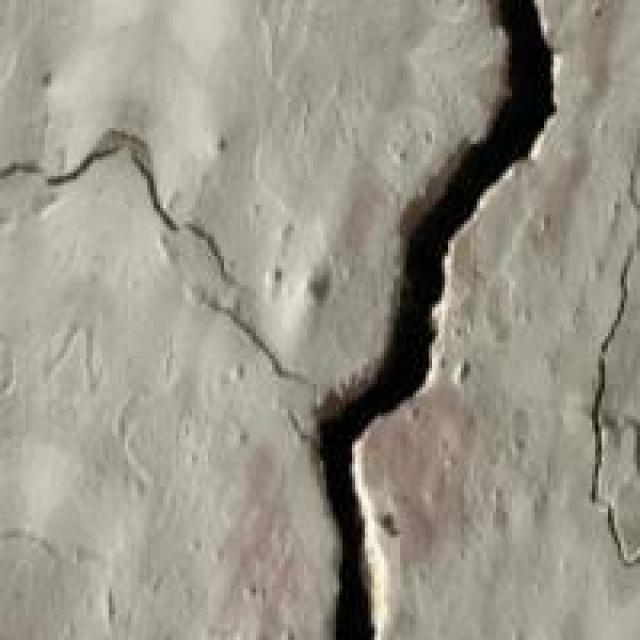Crack: (246, 0, 604, 637)
